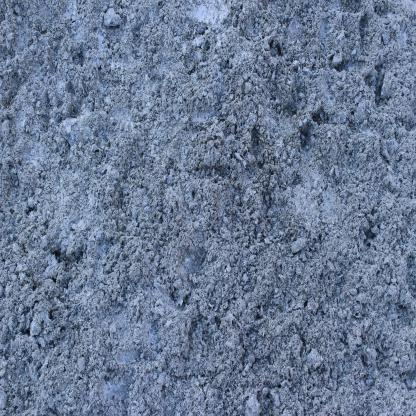stone: (57, 116, 85, 152), (289, 232, 309, 258), (28, 316, 45, 340), (104, 7, 123, 26)
